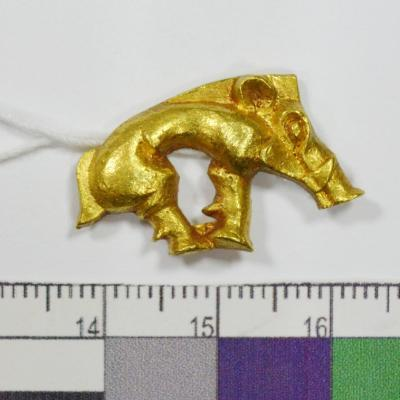archeology: (74, 74, 364, 256)
